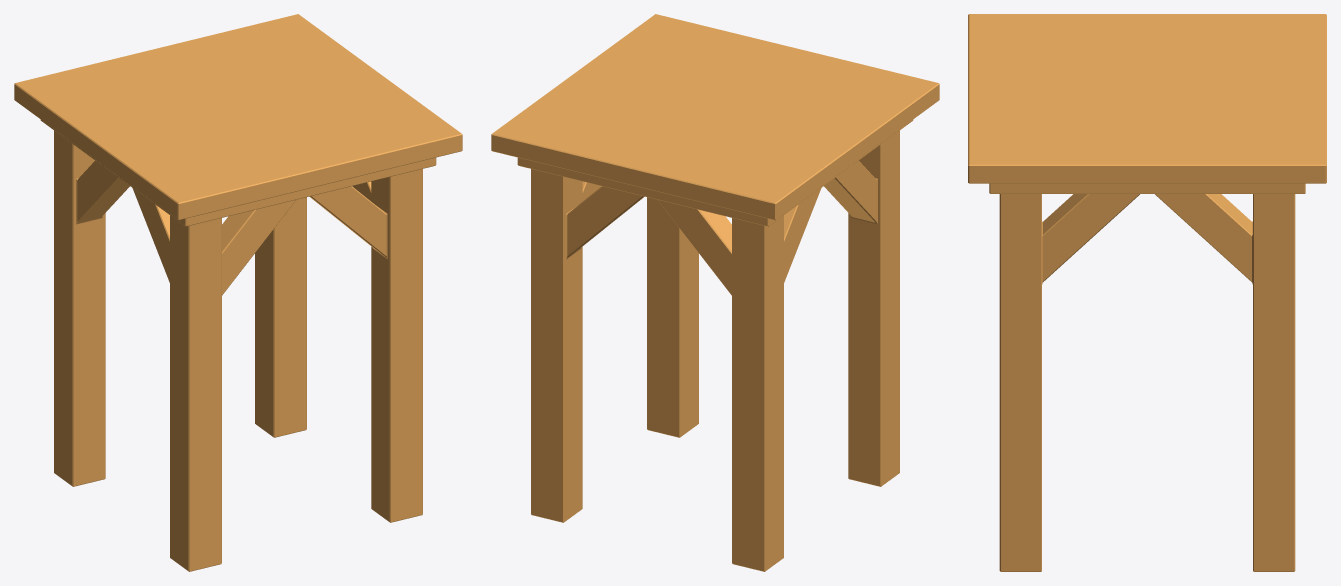
File: plateforme.fbx
The picture shows the model from 3 angles, left to right: view 1: azimuth 30°, elevation 25°; view 2: azimuth 150°, elevation 25°; view 3: azimuth 270°, elevation 25°; orthographic projection. The views are drawn at different scales.
Parts seen in each view (by area): view 1: Plateforme; view 2: Plateforme; view 3: Plateforme.
Part boxes in pixels (x1,y1,x2,y2): Plateforme: (14,14,462,571); Plateforme: (491,14,939,571); Plateforme: (968,14,1326,571).
Bounding box in the file's own units: 340 × 440 × 340.
